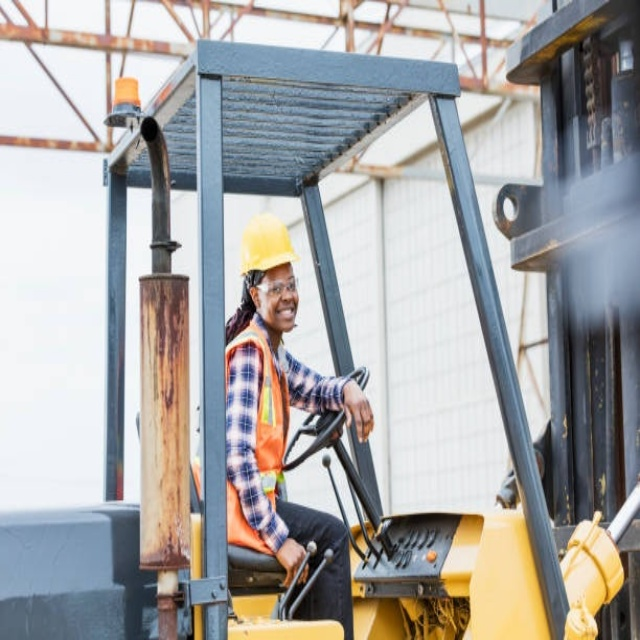Gafas: (255, 278, 299, 298)
Sin_guantes: (342, 381, 375, 442), (277, 537, 309, 581)
Sin_mascara: (275, 298, 298, 328)
